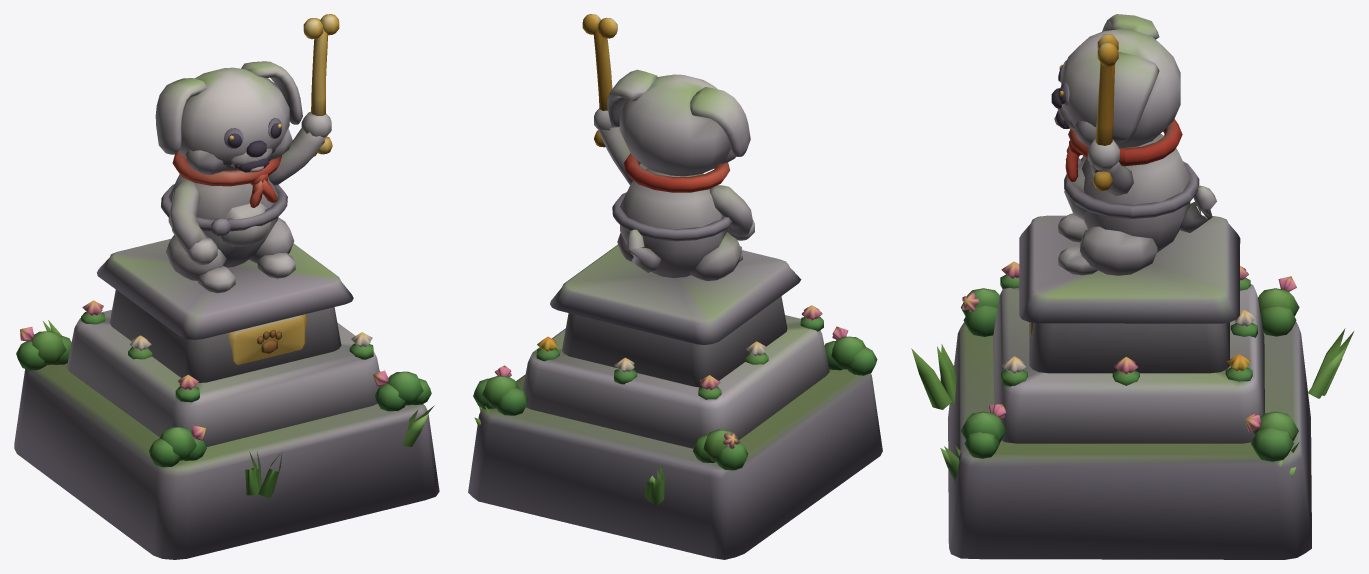
The model's file is chewyStatue.glb.
3 views of the same model, side by side, from view 1: azimuth 30°, elevation 25°; view 2: azimuth 150°, elevation 25°; view 3: azimuth 270°, elevation 25° (orthographic). The views are drawn at different scales.
Visible parts, largest first — view 1: chewyStatue; view 2: chewyStatue; view 3: chewyStatue.
Part boxes in pixels (x1,y1,x2,y2): chewyStatue: (14, 14, 439, 559); chewyStatue: (468, 14, 882, 559); chewyStatue: (911, 14, 1353, 559).
Bounding box in the file's own units: 1.7 × 2.52 × 2.06.
